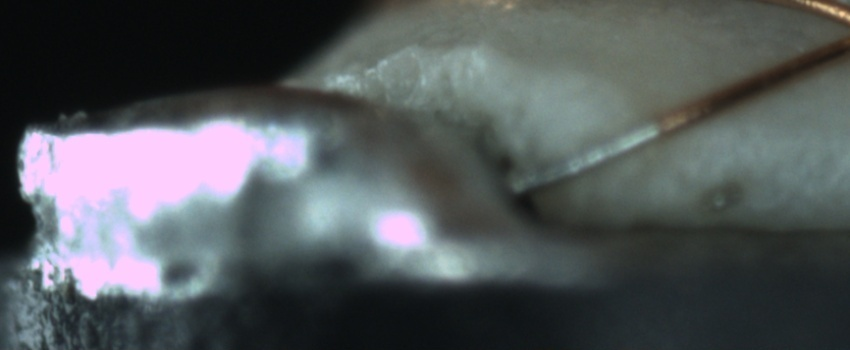CL: (830, 4, 850, 56)
DL: (678, 111, 849, 160)
TS: (514, 120, 662, 195)
